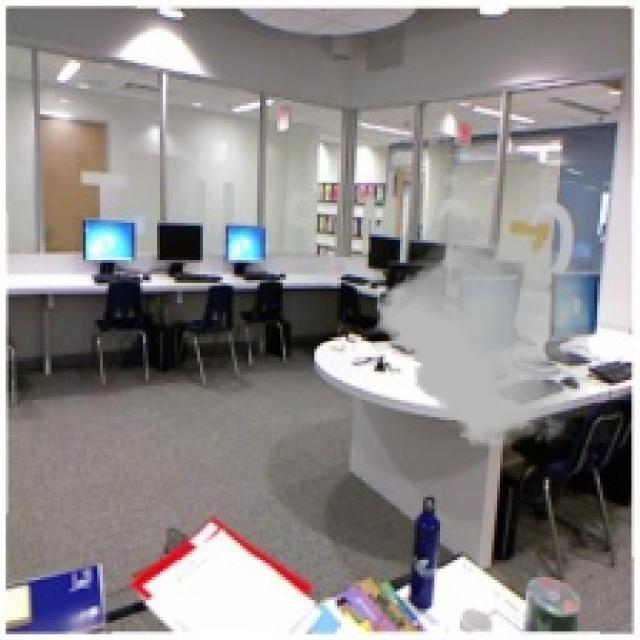Smoke: (377, 208, 589, 452)
